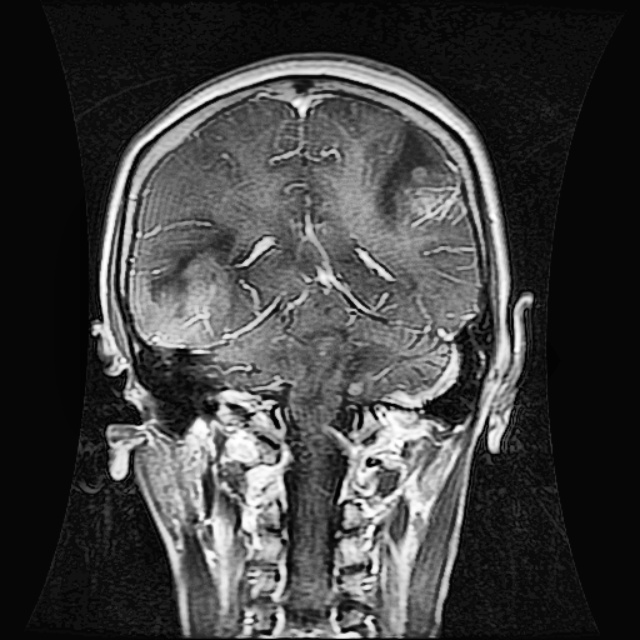Meningioma: (379, 127, 462, 230)
